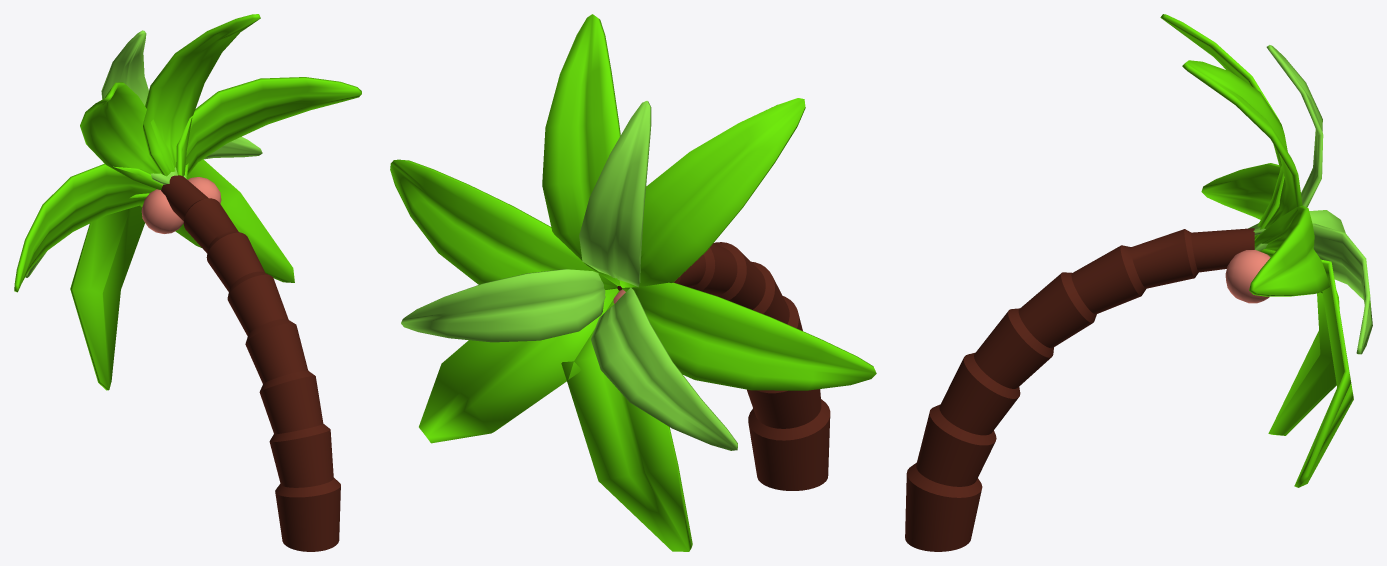
File: Palmtree_1.fbx
The picture shows the model from 3 angles, left to right: view 1: azimuth 30°, elevation 25°; view 2: azimuth 150°, elevation 25°; view 3: azimuth 270°, elevation 25°; orthographic projection. The views are drawn at different scales.
Visible parts, largest first — view 1: Plane.003, Circle.002, Plane.002, Cube.002; view 2: Plane.003, Plane.002, Circle.002; view 3: Circle.002, Plane.002, Plane.003, Cube.002.
Boxes of the visible parts, box(x1,y1,x2,y2) form: Plane.003: box(14, 82, 294, 390); Circle.002: box(161, 175, 340, 551); Plane.002: box(25, 14, 361, 277); Cube.002: box(141, 177, 221, 233); Plane.003: box(419, 98, 876, 551); Plane.002: box(390, 14, 737, 450); Circle.002: box(617, 242, 830, 490); Circle.002: box(905, 228, 1254, 551); Plane.002: box(1182, 45, 1372, 354); Plane.003: box(1160, 14, 1353, 487); Cube.002: box(1225, 250, 1270, 303).
Bounding box in the file's own units: 109 × 123 × 103.
